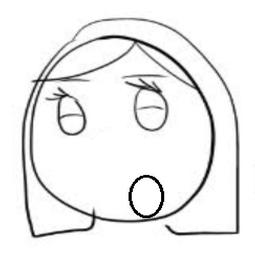eye: (43, 86, 98, 139), (122, 78, 172, 135)
eyebrow: (112, 71, 169, 80), (57, 76, 93, 84)
open_mouth: (120, 168, 168, 220)
